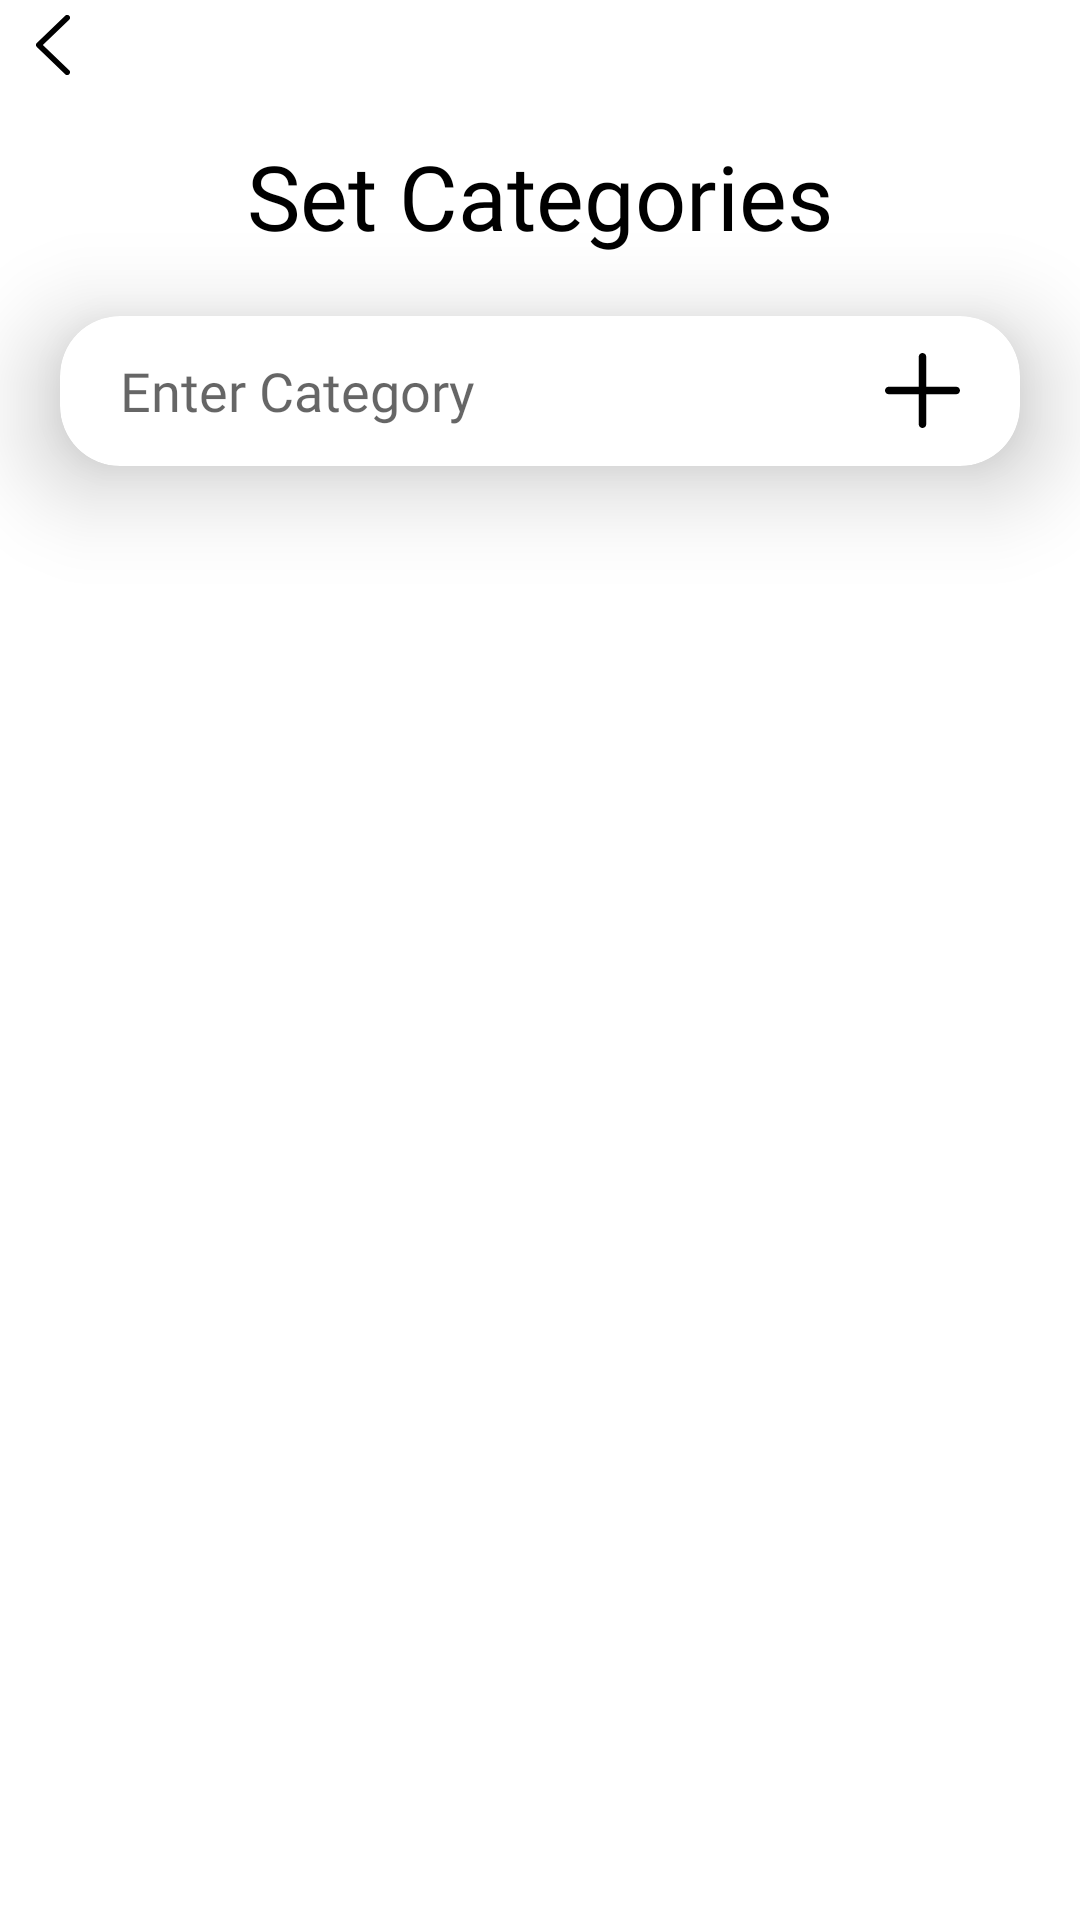

Locate icon controls on the screen. Image size 1080x1920, boxes as bbox=(x1, y1, x2, y2).
back arrow: bbox=(36, 15, 70, 75)
plus: bbox=(885, 353, 960, 428)
